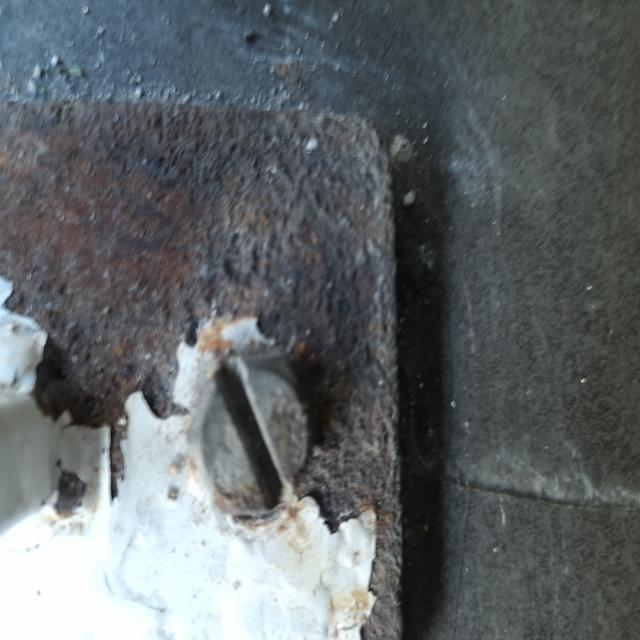Slotted: (194, 361, 310, 510)
